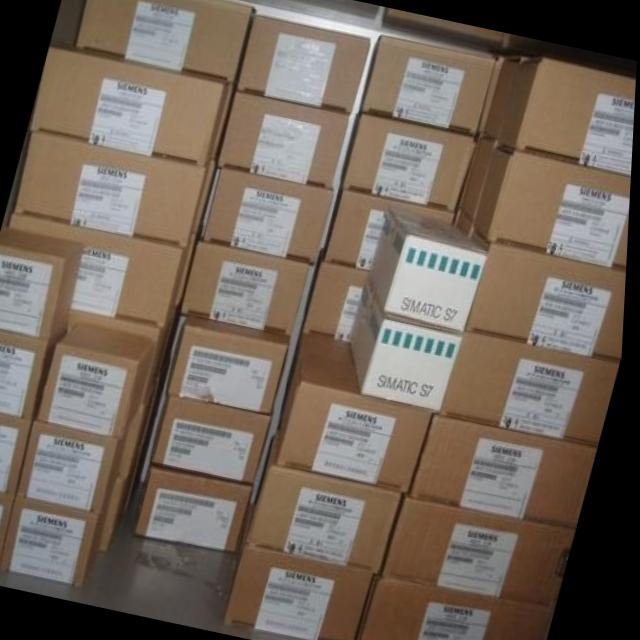box: (280, 333, 438, 495), (31, 46, 230, 167), (385, 492, 581, 609), (249, 431, 407, 574), (467, 227, 629, 364), (15, 132, 208, 246), (413, 412, 601, 529), (10, 211, 194, 326), (442, 331, 623, 447), (475, 143, 633, 270), (230, 512, 380, 640), (497, 56, 637, 175), (351, 278, 468, 411), (74, 0, 255, 84), (372, 208, 490, 334), (40, 320, 158, 440), (360, 36, 495, 137), (362, 572, 561, 640), (340, 113, 478, 211), (236, 14, 370, 112), (219, 91, 350, 189), (182, 239, 312, 336), (205, 169, 336, 265), (171, 314, 292, 414), (325, 182, 458, 268), (4, 490, 119, 587), (138, 461, 258, 553), (156, 395, 275, 485), (22, 420, 131, 512), (0, 227, 86, 338), (0, 321, 70, 418), (304, 252, 373, 343), (461, 131, 496, 221), (484, 57, 521, 140), (0, 413, 37, 495), (0, 493, 20, 571)
